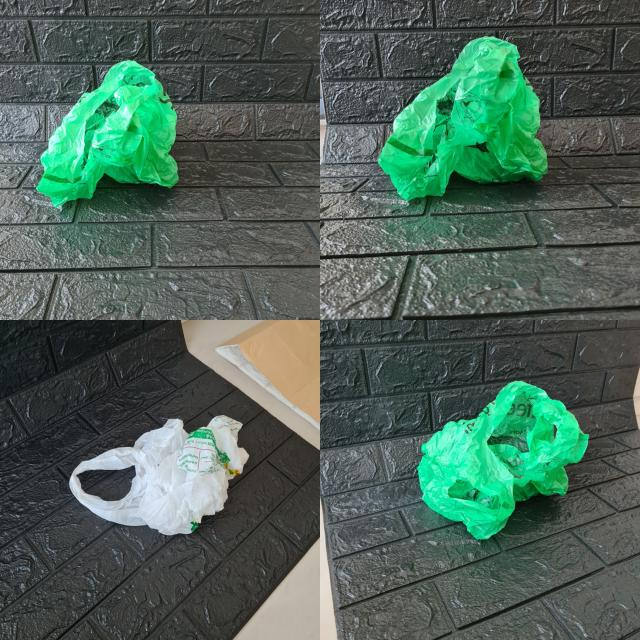Single-layer Plastic: (379, 36, 548, 200), (418, 381, 589, 539), (70, 416, 249, 535), (36, 60, 179, 206)
